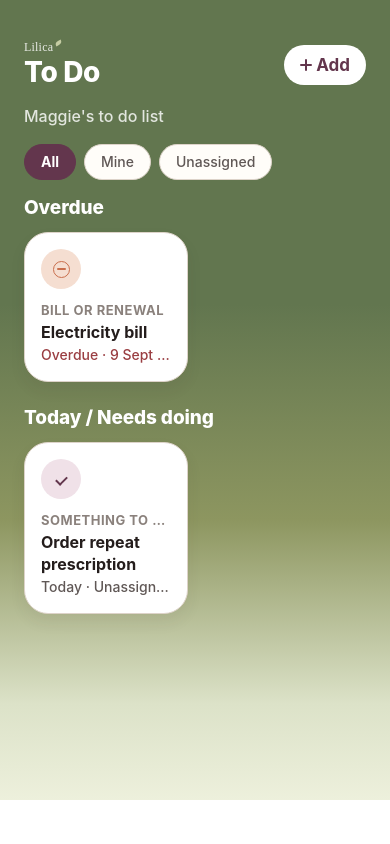
Phase 12: assignment (stable identity, never name-based) › "Mine" shows only items assigned to the active membership ID
Click the button "Mine" at [118, 162], box x1=84 y1=144 x2=151 y2=180
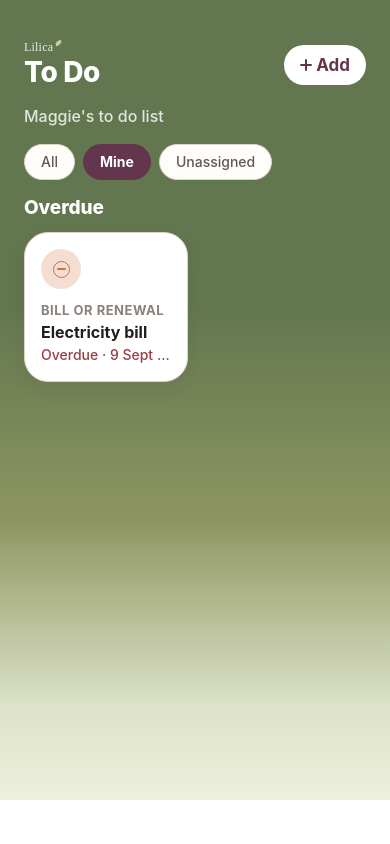
Expected: the text "Electricity bill" is shown, x1=41 y1=322 x2=147 y2=342
Expected: the button "Order repeat prescription" is gone
